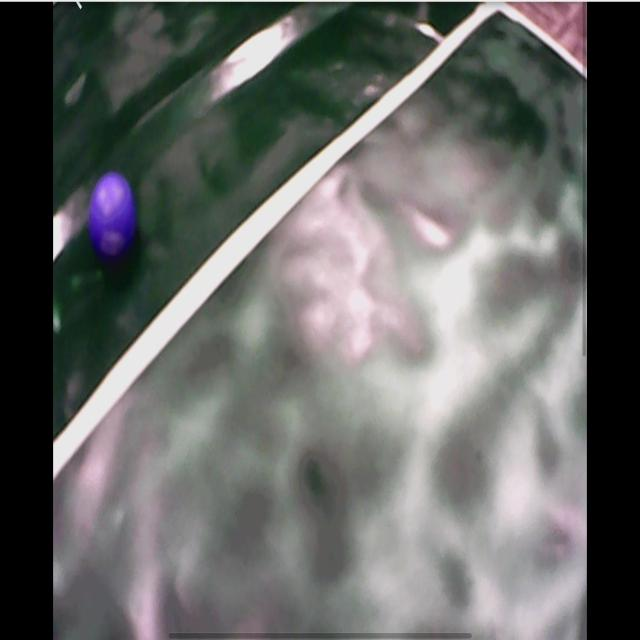ball: (89, 173, 136, 257)
